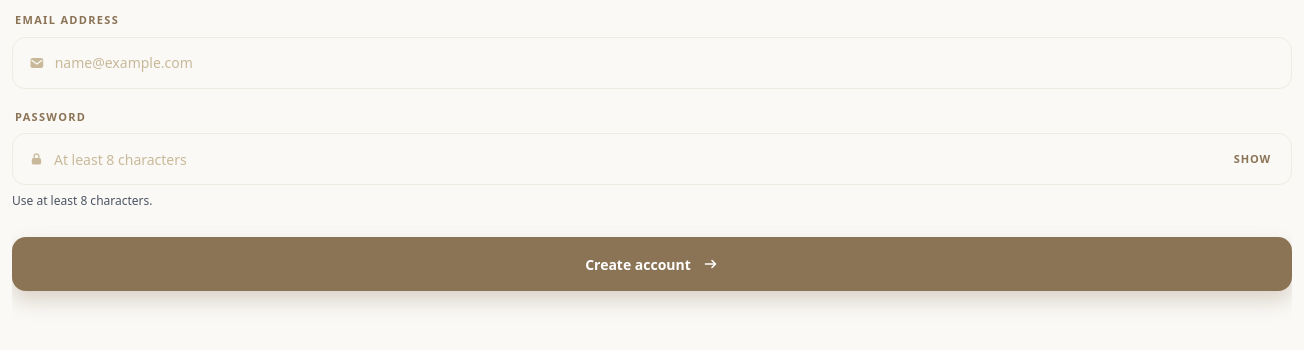
Test case: SignupForm › validates empty fields before calling the action
The image size is (1304, 350).
Click the button "Create account" at (652, 264), box [12,237,1292,291]
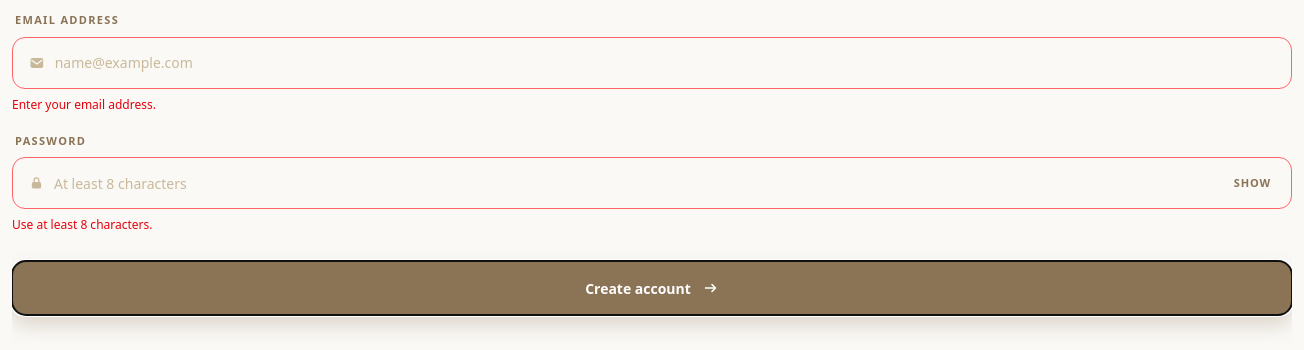
Expected: the text "Use at least 8 characters." is shown, [12,216,152,233]
Expected: the text "Enter your email address." is shown, [12,96,156,112]
